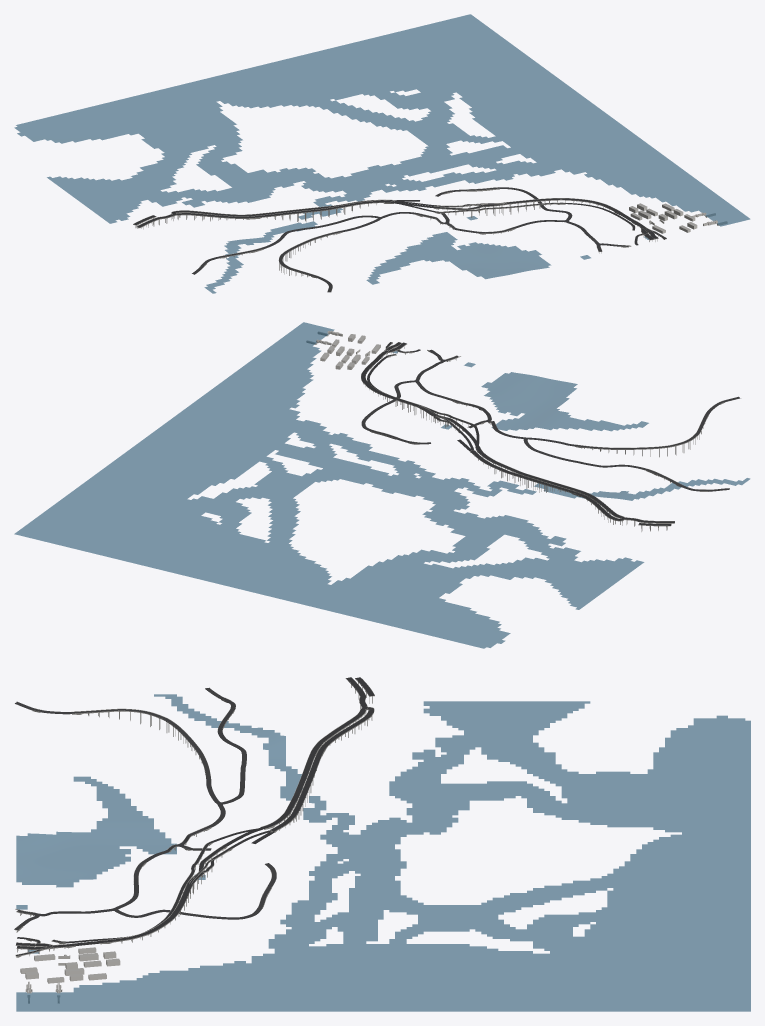
File: chunk_7_1.glb
3 renders of one model, top to bottom at view 1: azimuth 30°, elevation 25°; view 2: azimuth 150°, elevation 25°; view 3: azimuth 270°, elevation 25°, orthographic. The views are drawn at different scales.
Visible parts, largest first — view 1: Water_7_1, Roads_7_1, RoadSides_7_1, Filler_7_1; view 2: Water_7_1, Roads_7_1, RoadSides_7_1, Filler_7_1; view 3: Water_7_1, Roads_7_1, RoadSides_7_1, Filler_7_1.
Boxes of the visible parts, x1,y1,x2,y2 form: Water_7_1: (14, 14, 749, 293); Roads_7_1: (133, 187, 666, 292); RoadSides_7_1: (133, 187, 666, 285); Filler_7_1: (629, 203, 697, 233); Water_7_1: (14, 322, 749, 648); Roads_7_1: (361, 342, 740, 525); RoadSides_7_1: (361, 342, 724, 531); Filler_7_1: (320, 334, 380, 369); Water_7_1: (16, 694, 750, 1011); Roads_7_1: (14, 677, 374, 955); RoadSides_7_1: (14, 678, 374, 957); Filler_7_1: (20, 947, 120, 983).
Bounding box in the file's own units: 2054 × 134 × 2054.
